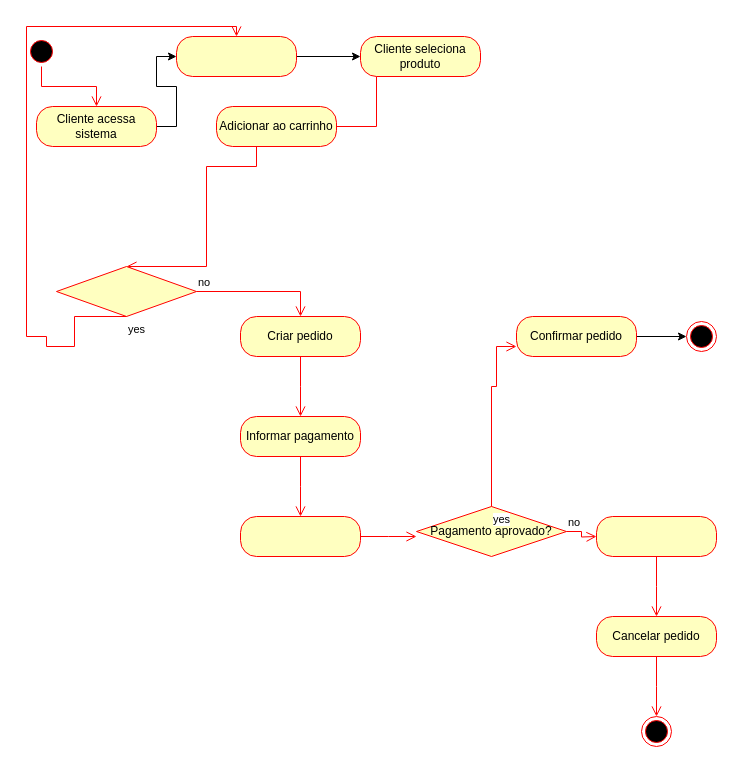
Some shapes in this 734 by 764 pixel diagram are drawn without their labels. Each missing label, with the box of its shape:
Deseja continuar comprando?: (56, 266, 196, 316)
Enviar para sistema de pagamento: (240, 516, 360, 556)
Exibir erro: (596, 516, 716, 556)
Listar produtos: (176, 36, 296, 76)
